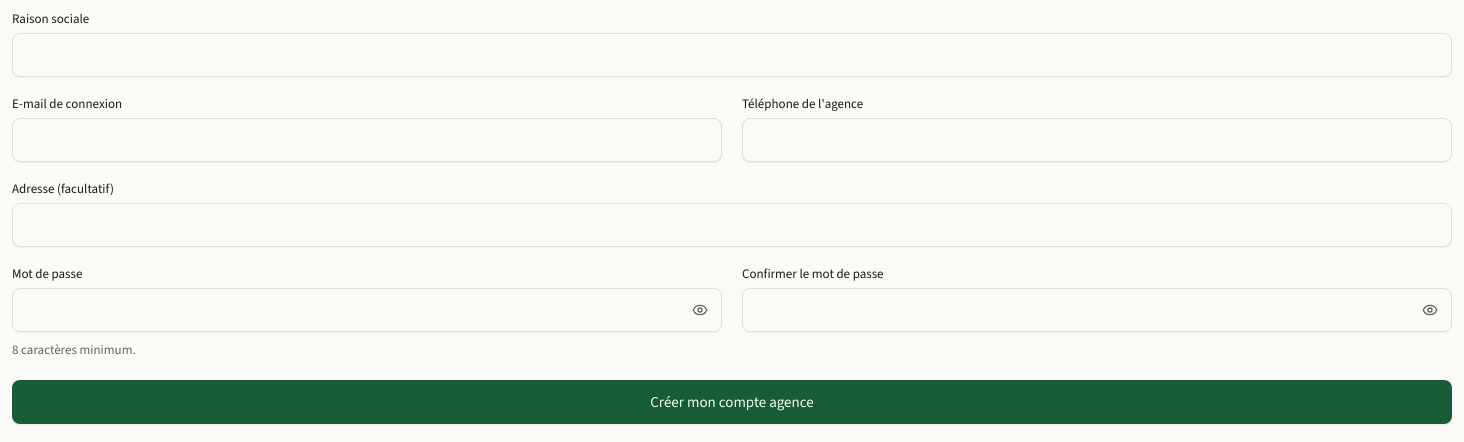
Test: RegisterAgencyForm › bloque l'envoi si les deux mots de passe diffèrent
Type "Agence Factice" into the field labelled "Raison sociale" at [732, 55], box [12, 33, 1452, 77]
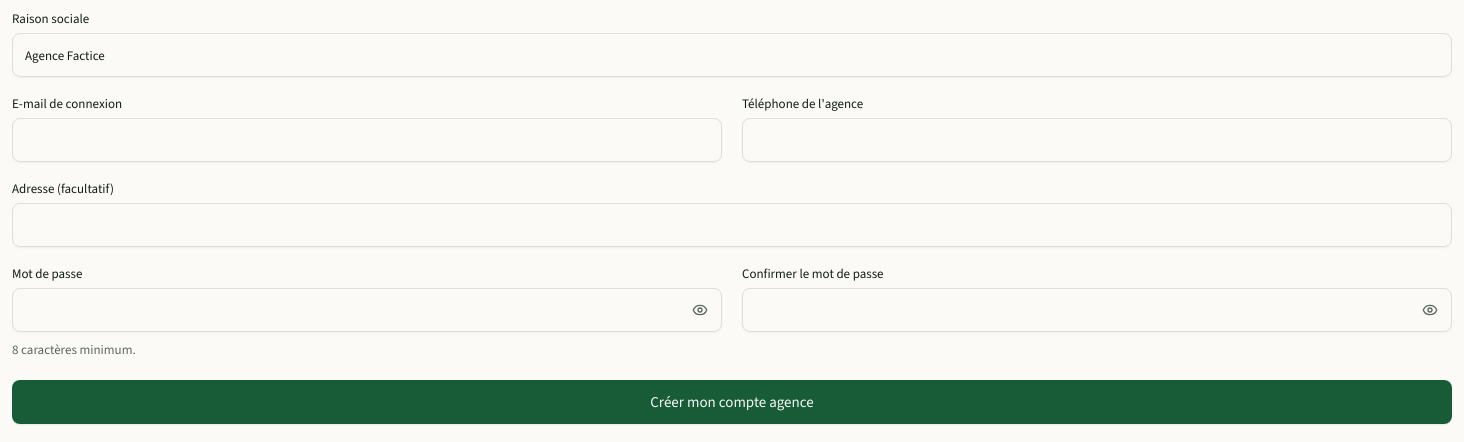
Type "agence@exemple.test" into the field labelled "E-mail de connexion" at [367, 140], box [12, 118, 722, 162]
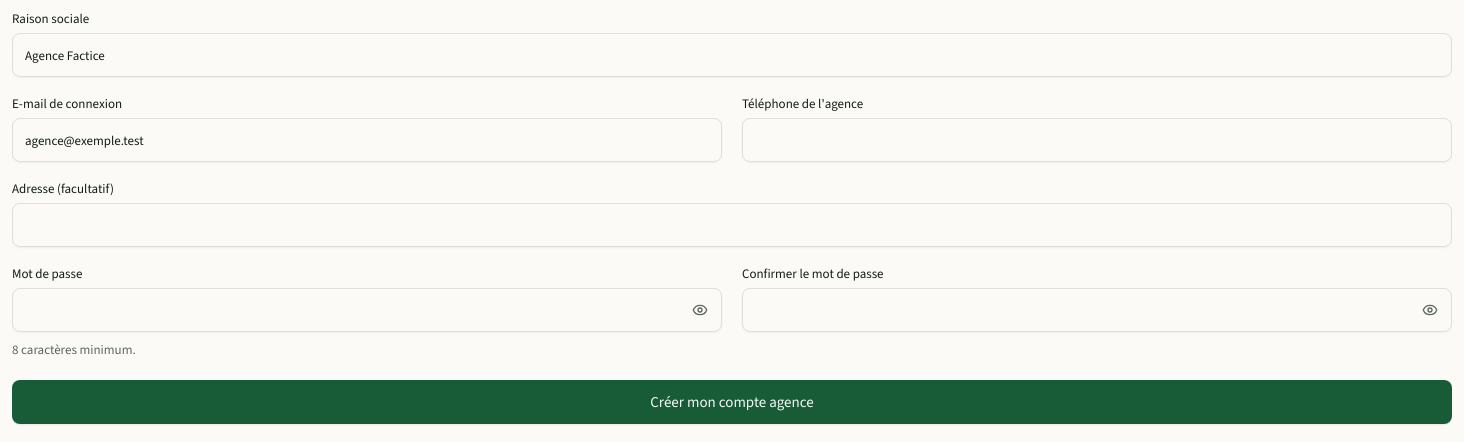
Type "620000000" into the field labelled "Téléphone de l'agence" at [1097, 140], box [742, 118, 1452, 162]
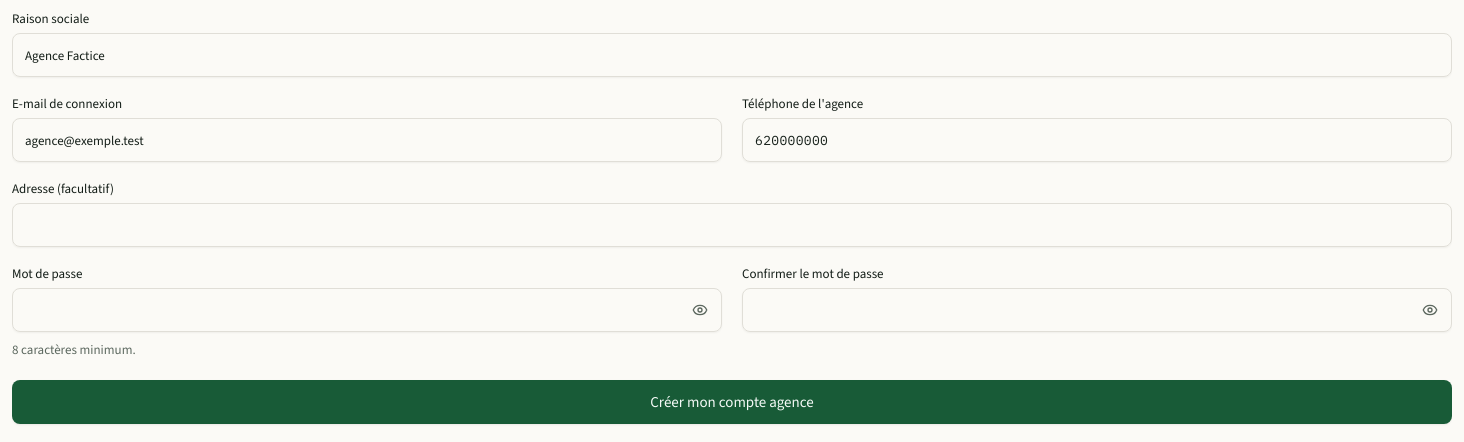
Type "motdepasse-1" into the password field labelled "Mot de passe" at [367, 310], box [12, 288, 722, 332]
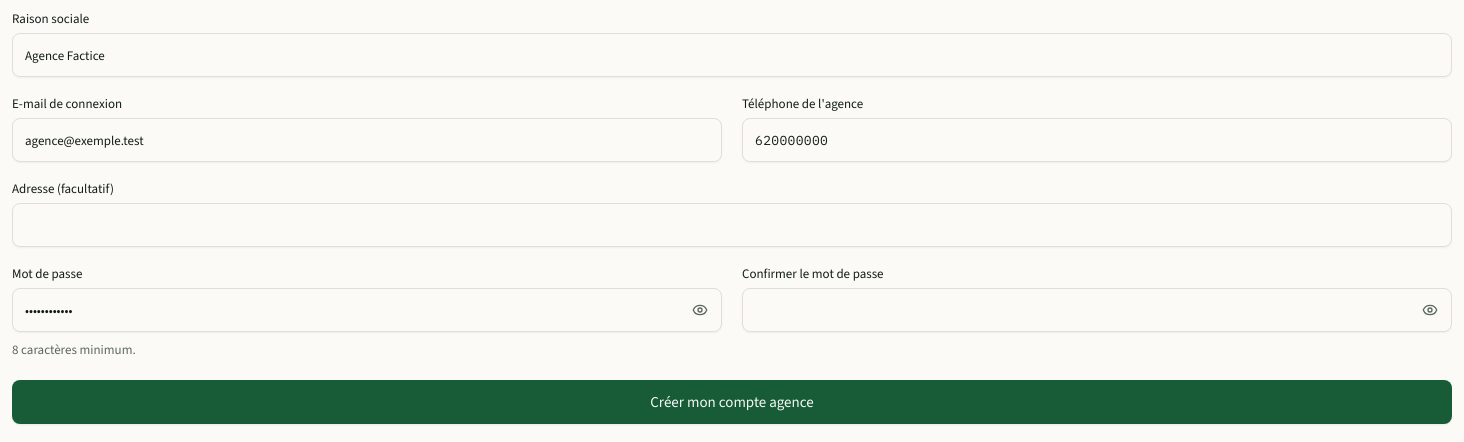
Type "motdepasse-2" into the password field labelled "Confirmer le mot de passe" at [1097, 310], box [742, 288, 1452, 332]
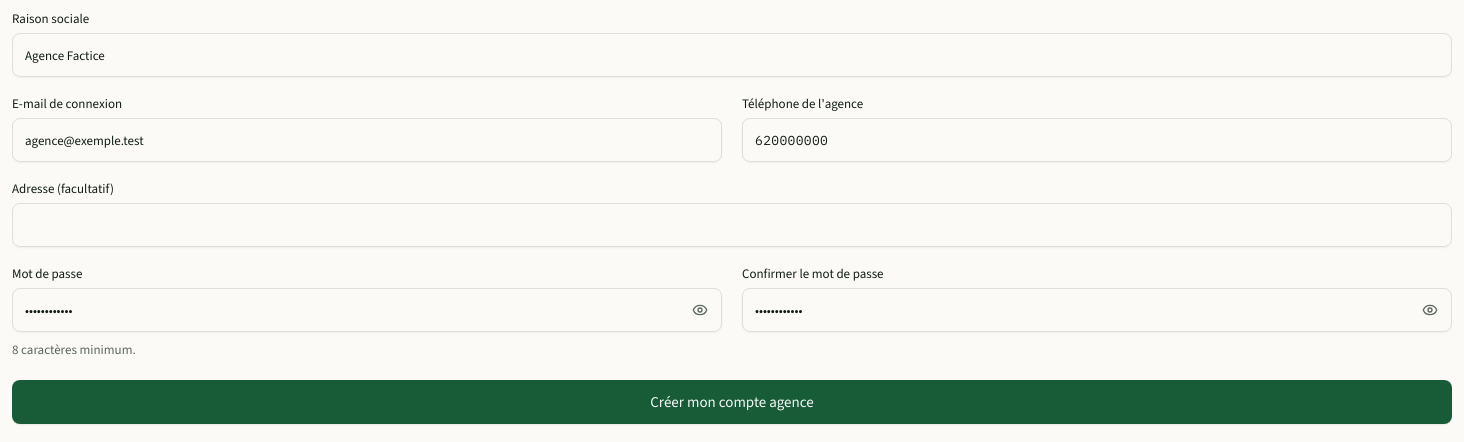
Click the button "Créer mon compte agence" at [732, 402], box [12, 380, 1452, 424]
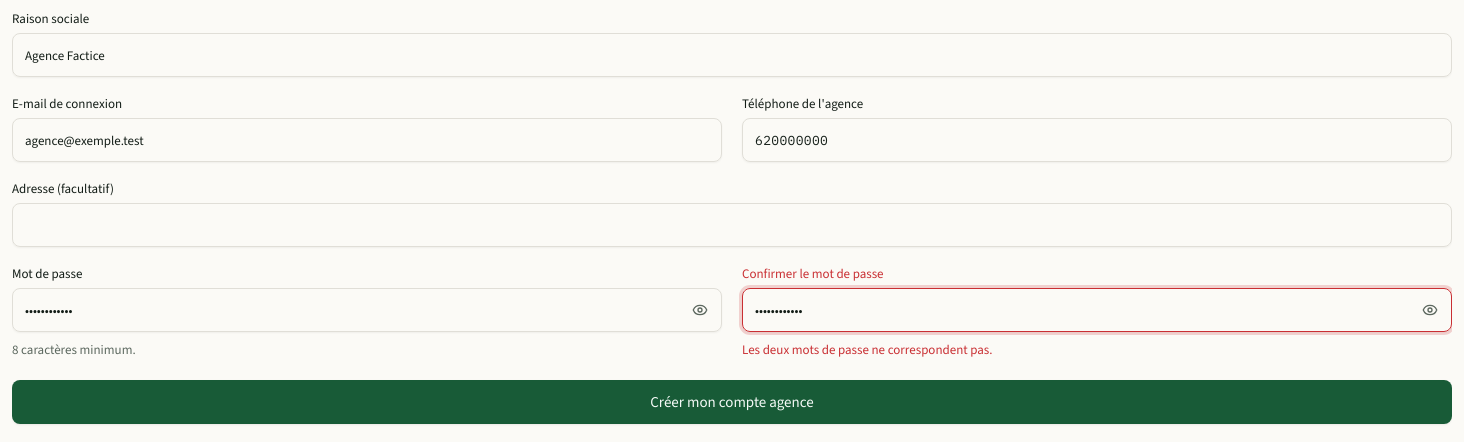
Check: the text "Les deux mots de passe ne correspondent pas." is shown, box [742, 341, 993, 358]
